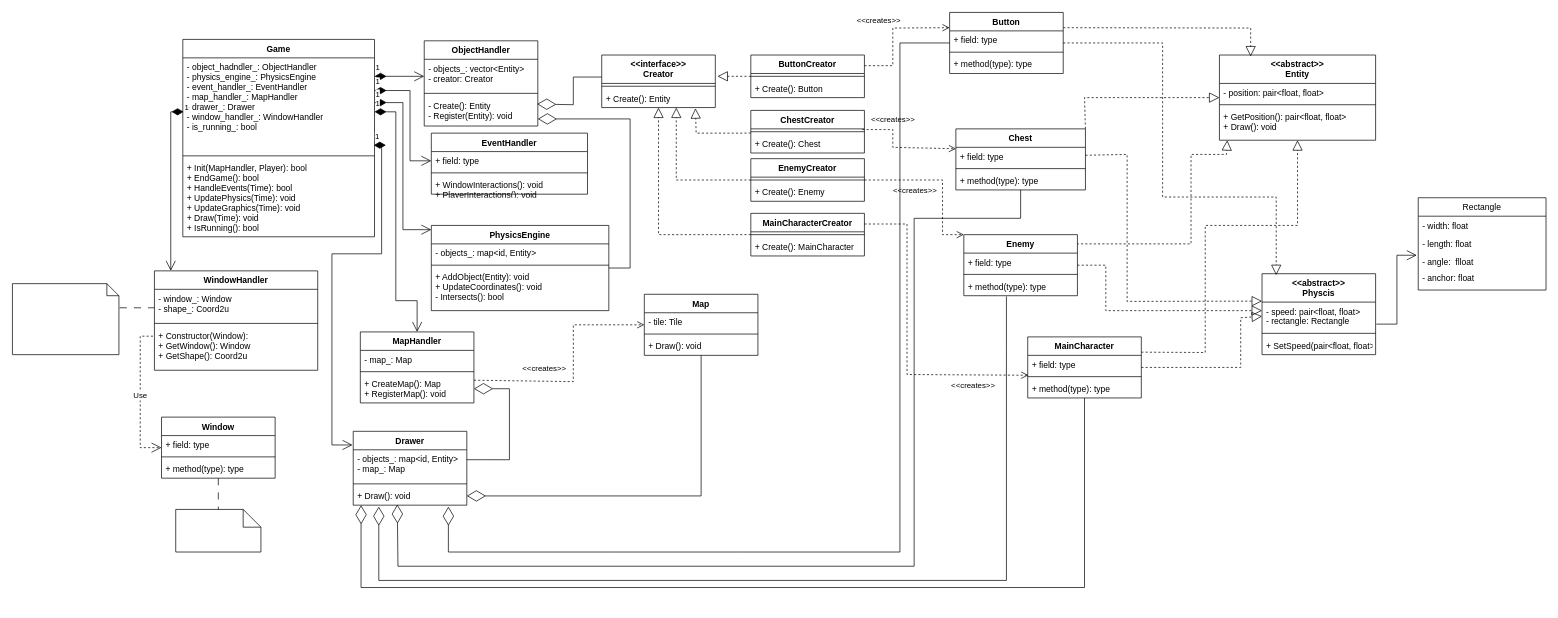
The diagram is 1558 pixels wide and 618 high, and some of its shapes have lost their labels. The shapes that lost their labels are listed below. From the top down, each one's centre as x and y in pixels, then its label:
At (x=65, y=319): "Coord2u - обертка над вектором 2u имплементированном в SFML".
At (x=218, y=530): "Outer Library Class".
